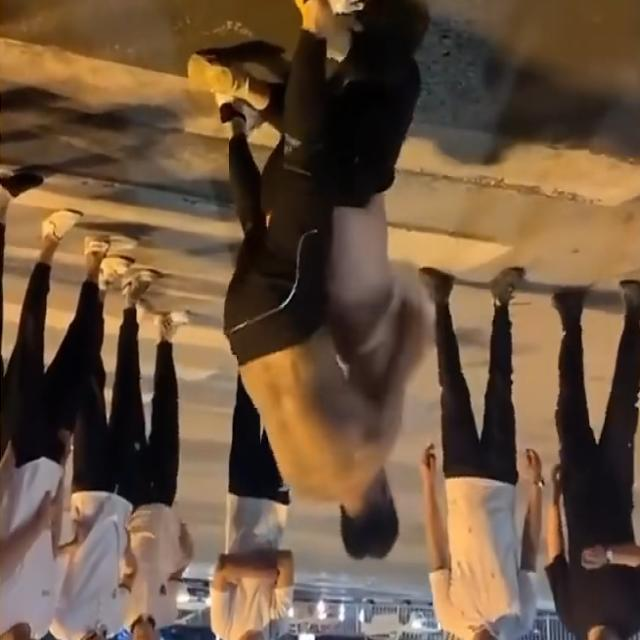fight: (229, 158, 421, 567)
nofight: (419, 267, 545, 639), (36, 269, 162, 640), (551, 245, 640, 638), (203, 393, 293, 635)
